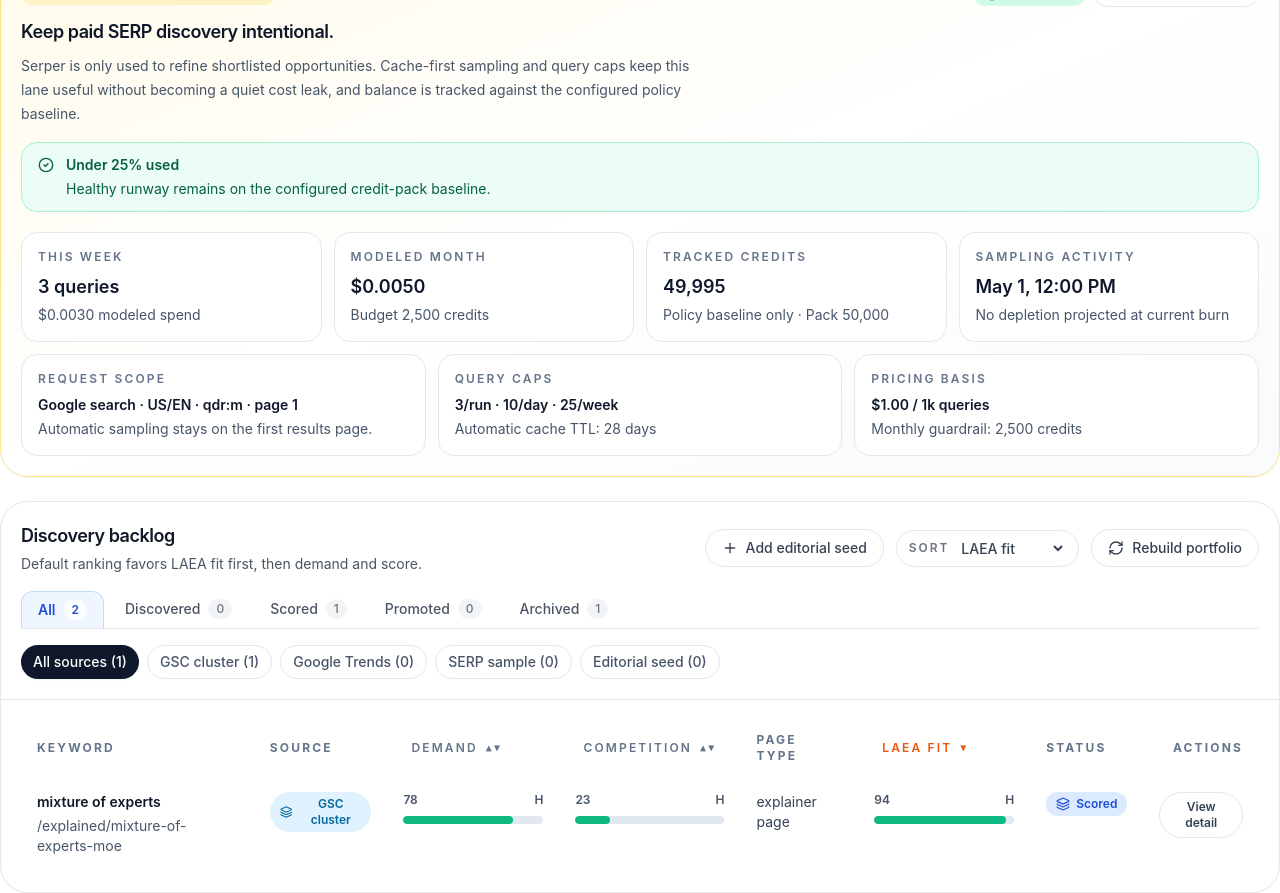
Test: SeoKeywordPortfolioPage › hides stale archived rows from the default view but keeps them in the archived tab
(page scrolled)
Expected: the text "mixture of experts" is shown, [37,793,161,810]
Expected: the text "retired keyword" is not shown
Click the tab "Archived 1" at (564, 609), box [502,590,625,628]
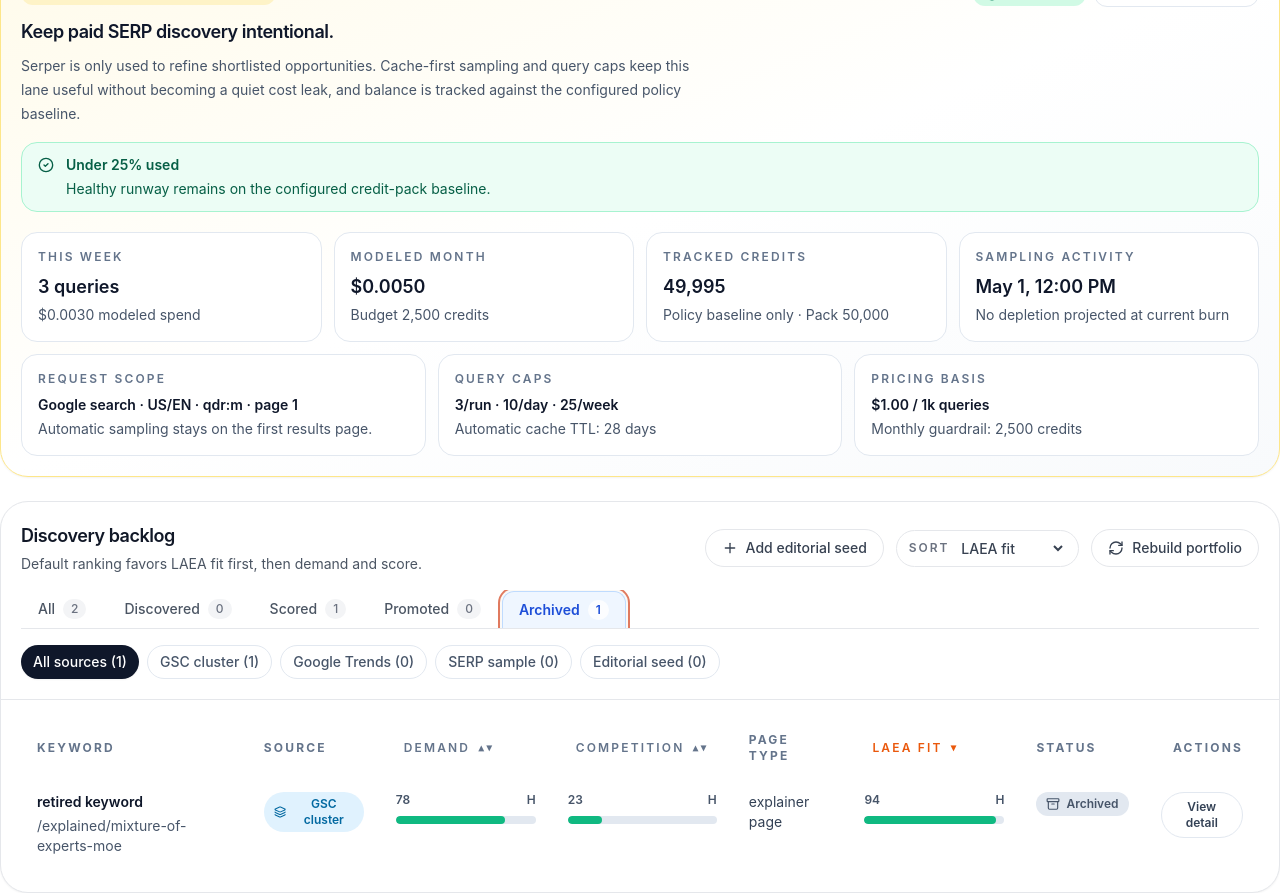
Expected: the text "retired keyword" is shown, [37,793,143,810]
